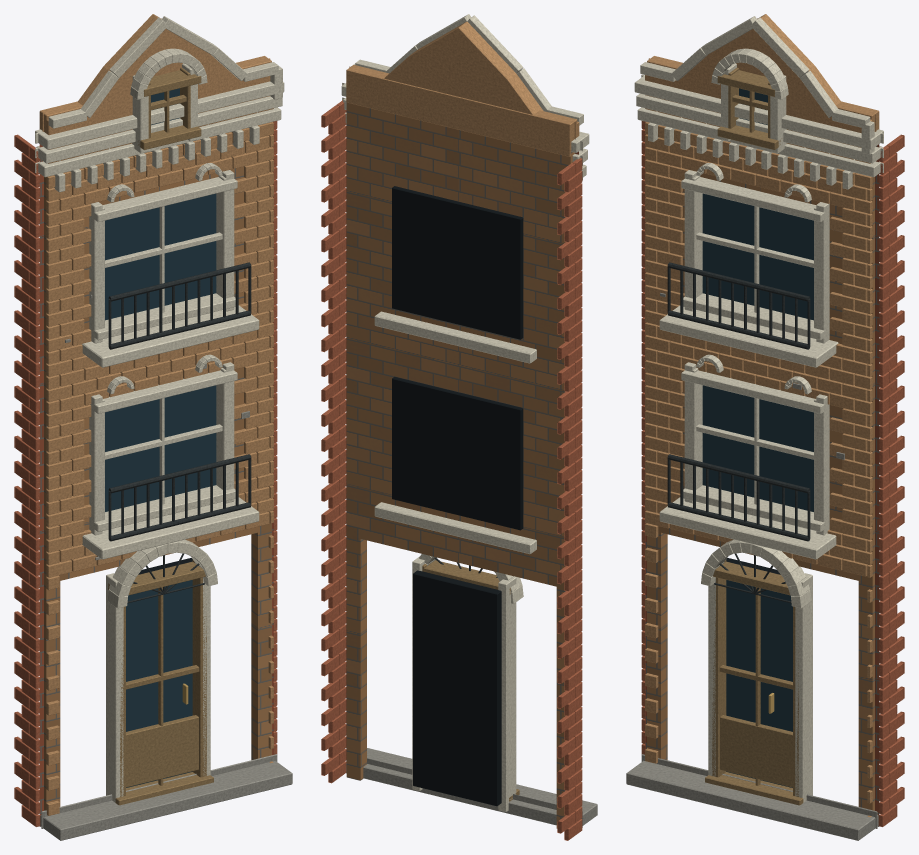
The model's file is VICT22_lod0.glb.
3 views of the same model, side by side, from view 1: azimuth 30°, elevation 25°; view 2: azimuth 150°, elevation 25°; view 3: azimuth 330°, elevation 25° (orthographic).
Parts seen in each view (by area): view 1: VICT22_FRONT_LOD0; view 2: VICT22_FRONT_LOD0; view 3: VICT22_FRONT_LOD0.
Boxes of the visible parts, x1,y1,x2,y2 form: VICT22_FRONT_LOD0: (14, 14, 292, 840); VICT22_FRONT_LOD0: (321, 14, 597, 840); VICT22_FRONT_LOD0: (626, 14, 904, 840).
Size of the model in its own units: 3.44 by 10.64 by 1.13.
16 materials, 13 textured.
